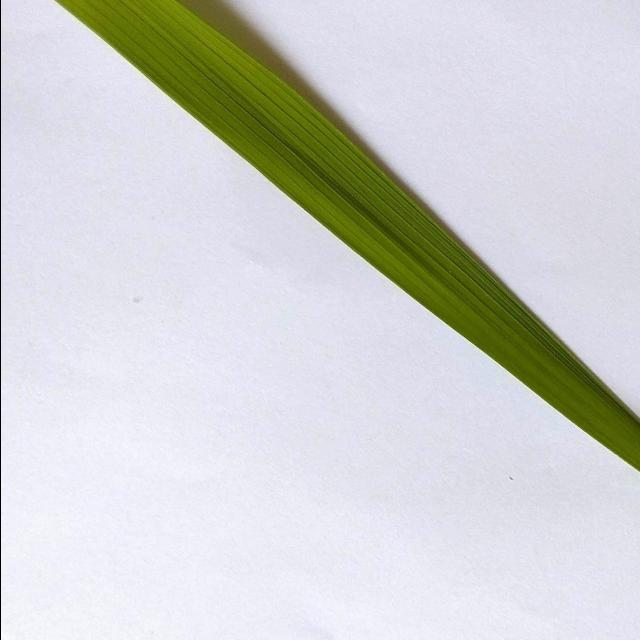healthy: (30, 0, 640, 495)
